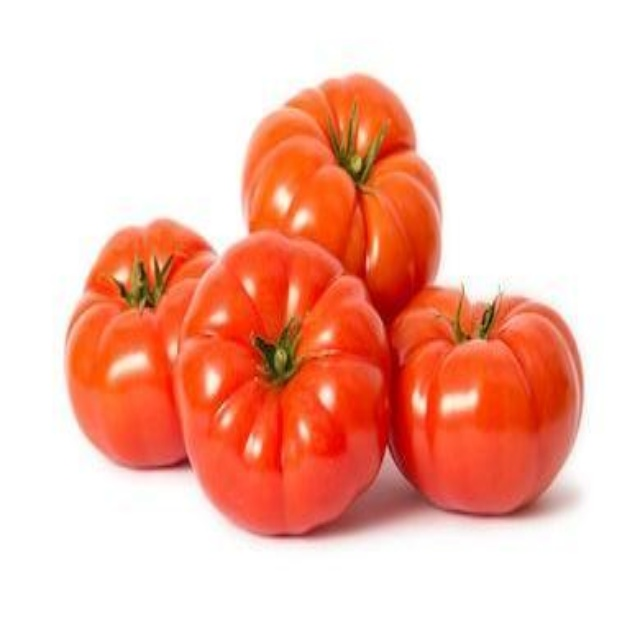tomato: (183, 240, 383, 537), (59, 215, 231, 480), (235, 87, 430, 306), (389, 292, 580, 513)
